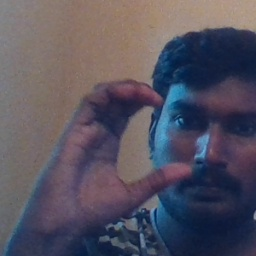C: (78, 66, 198, 204)
